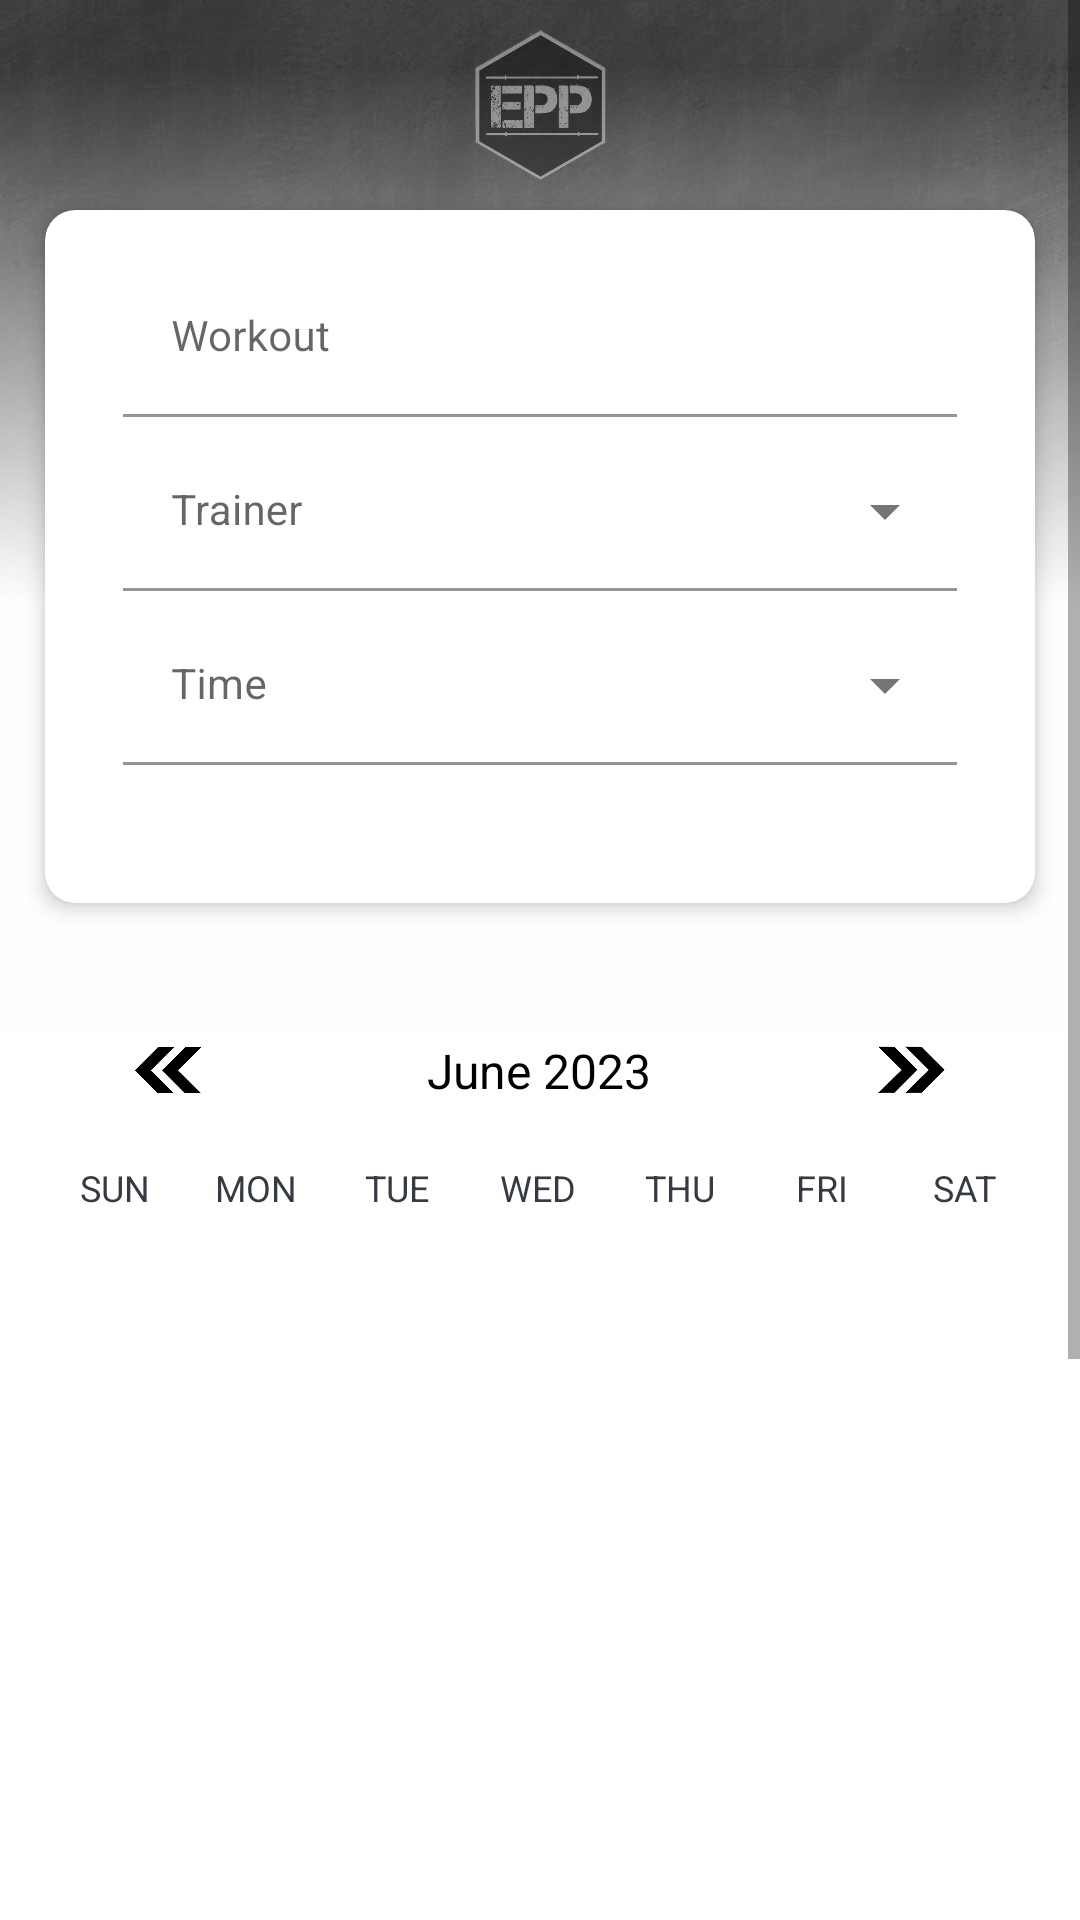

Point at icon controls on the screen. Image size 1080*1920, points as (x=x, y=y).
left double arrow: (x=168, y=1070)
right double arrow: (x=911, y=1069)
